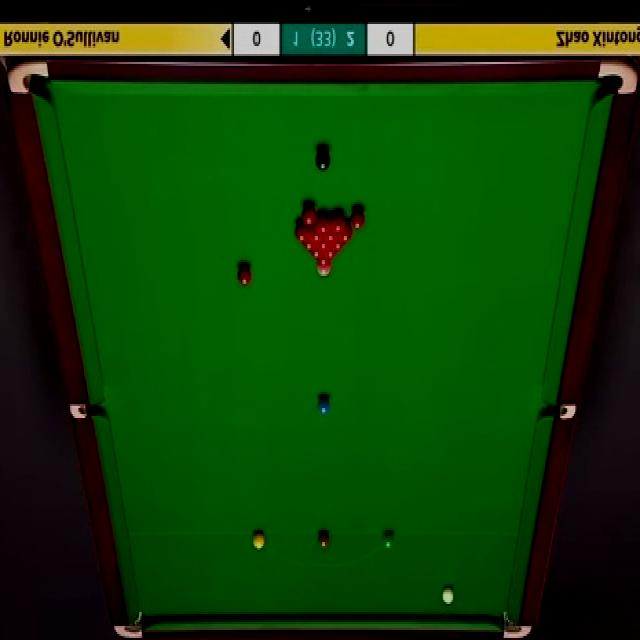black-ball: (314, 147, 331, 173)
blue-ball: (316, 395, 331, 417)
brown-ball: (316, 530, 331, 552)
green-ball: (380, 530, 395, 550)
pink-ball: (316, 264, 332, 278)
red-ball: (236, 264, 253, 288), (350, 206, 367, 230), (293, 224, 311, 244), (302, 205, 318, 227), (331, 212, 346, 234), (316, 214, 332, 234), (326, 223, 339, 242), (311, 228, 325, 244), (340, 225, 352, 243), (331, 242, 347, 251), (315, 258, 332, 266), (317, 242, 333, 250), (308, 250, 324, 258), (303, 242, 317, 251), (323, 250, 338, 258)
white-ball: (441, 587, 456, 607)
yellow-ball: (252, 531, 265, 552)
